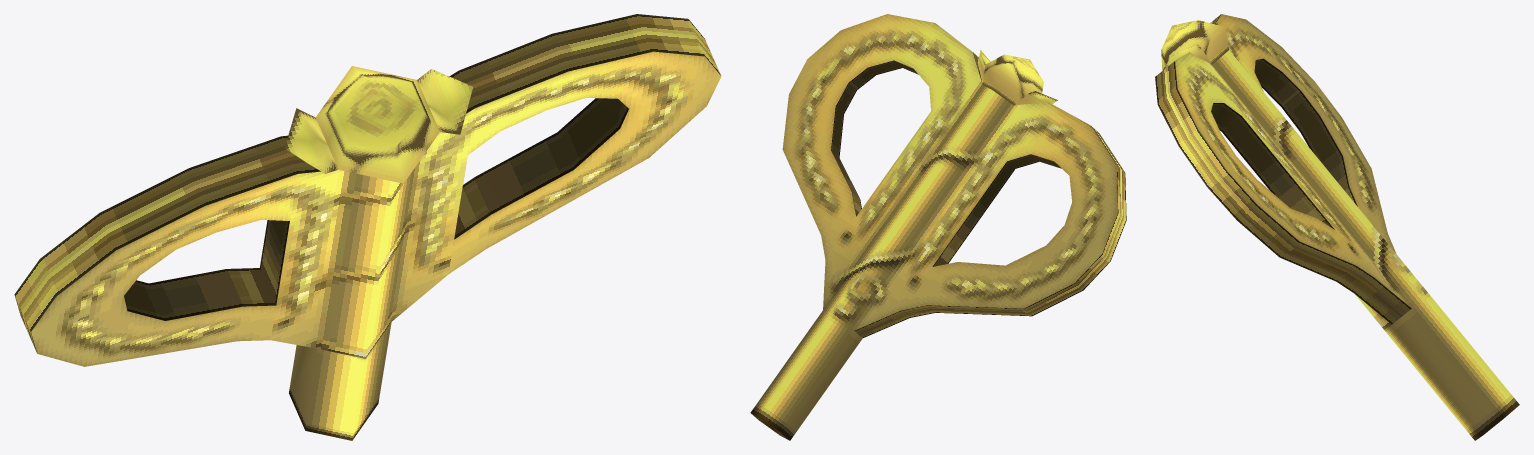
Rendered from ps2_save-icons_rozenmaidengebetgarten.glb.
The picture shows the model from 3 angles, left to right: view 1: azimuth 30°, elevation 25°; view 2: azimuth 150°, elevation 25°; view 3: azimuth 270°, elevation 25°; orthographic projection. The views are drawn at different scales.
Parts seen in each view (by area): view 1: mc.ico; view 2: mc.ico; view 3: mc.ico.
Boxes of the visible parts, x1,y1,x2,y2 form: mc.ico: (14, 14, 721, 440); mc.ico: (750, 14, 1126, 440); mc.ico: (1155, 14, 1519, 440).
Size of the model in its own units: 4.57 by 4.13 by 3.72.
1 material, 1 textured.
